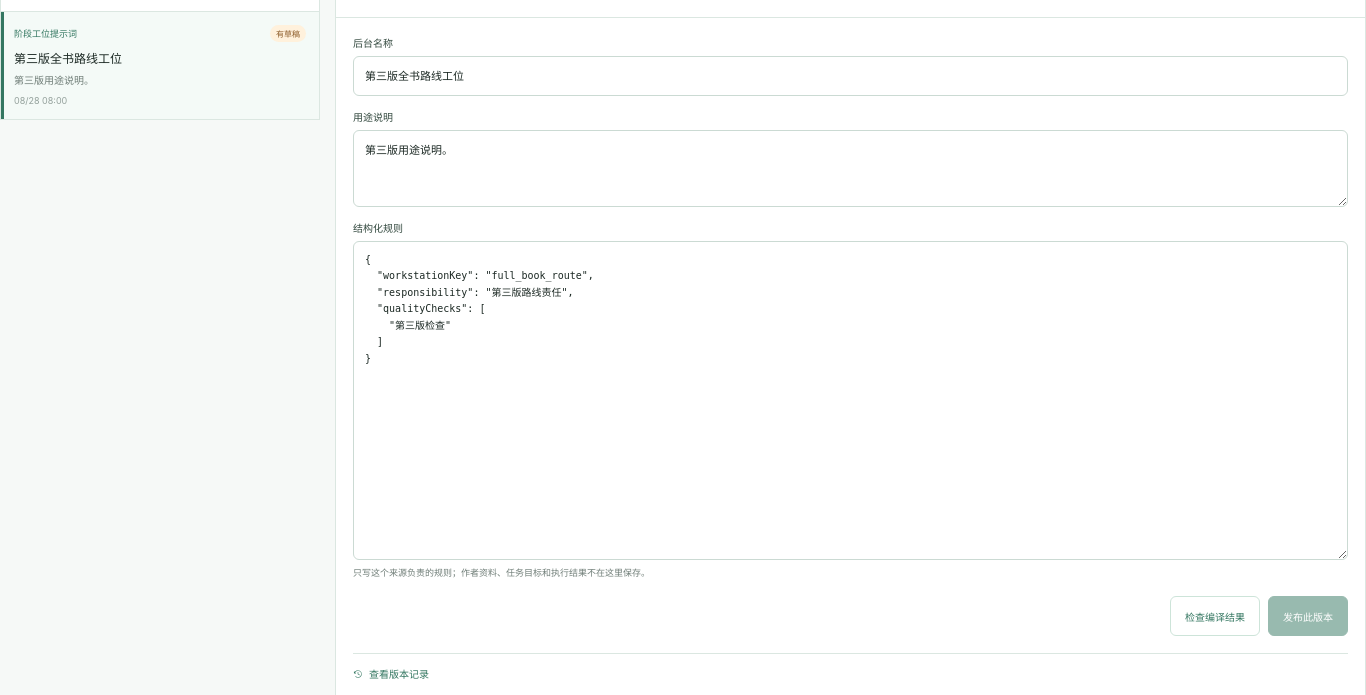
Test: 提示词与上下文中心 › 当前编辑内容可与任一历史版本并排比较名称、说明和结构化规则
The image size is (1366, 695).
(page scrolled)
Click the heading "查看版本记录". click: x=391, y=674
box: [353,668,429,680]
(page scrolled)
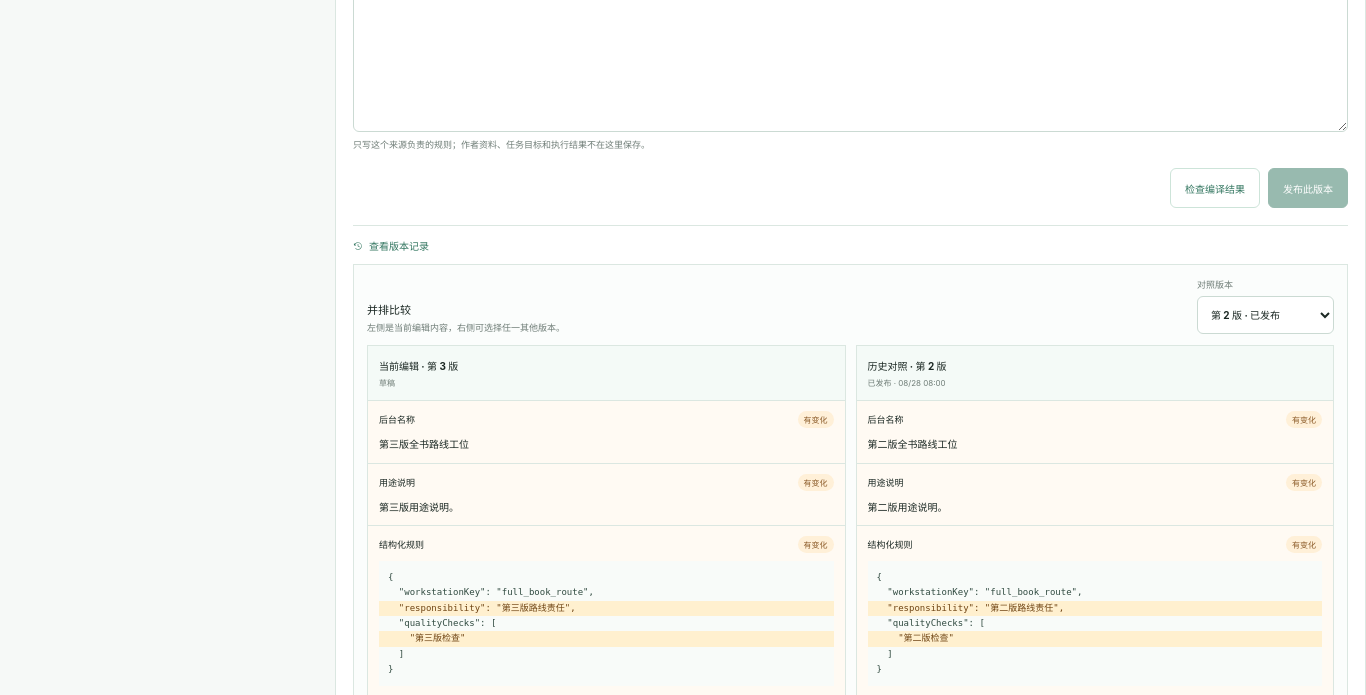
Check: the text "当前编辑 · 第 3 版" is shown, box [379,360,458,372]
Check: the text "历史对照 · 第 2 版" is shown, box [868,360,947,372]
Check: the text "有变化" is shown 6 times, box [798,411,834,428]; [798,474,834,491]; [798,536,834,553]; [1286,411,1322,428]; [1286,474,1322,491]; [1286,536,1322,553]
Select "第 1 版 · 历史版本" in the dropdown named "选择要比较的历史版本". click: x=1266, y=315
box: [1197,296,1334,334]
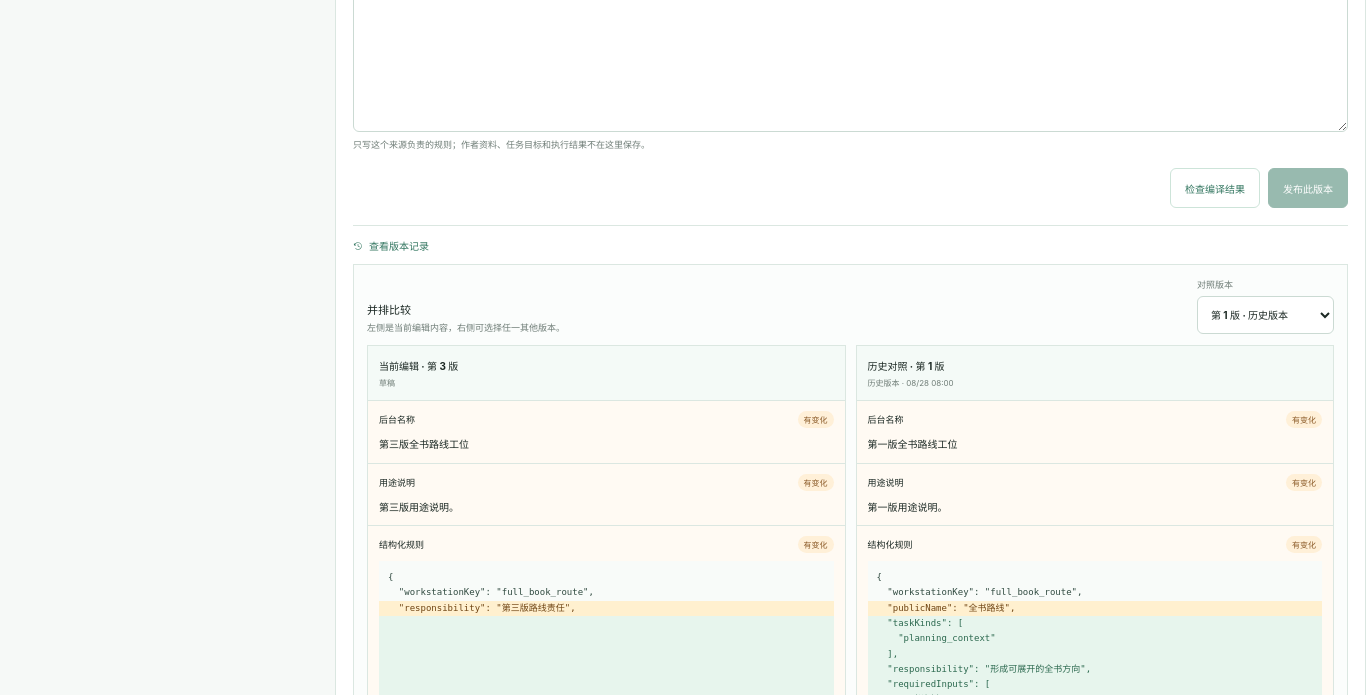
Check: the text "历史对照 · 第 1 版" is shown, box [868,360,945,372]
Check: the text "第一版全书路线工位" is shown, box [868,438,958,450]
Check: the text "第一版用途说明。" is shown, box [868,501,948,513]
